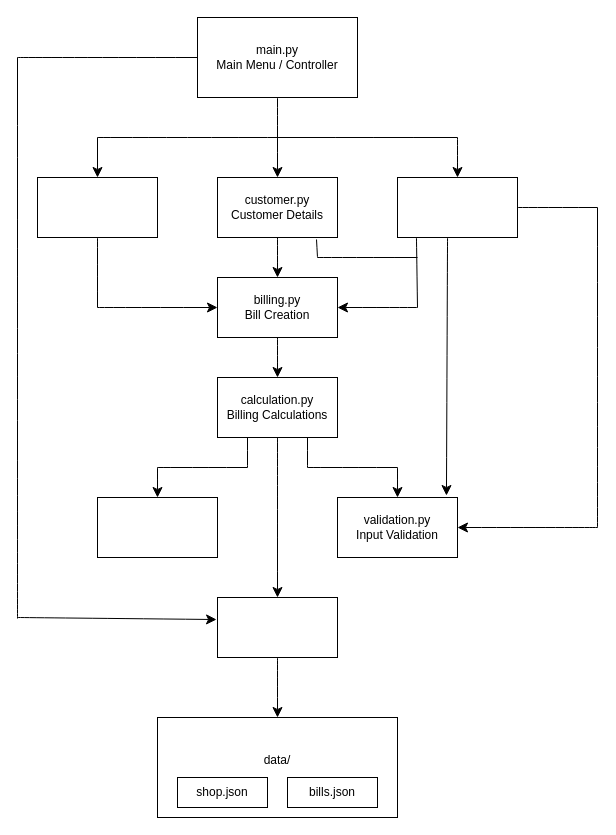
The diagram is 616 pixels wide and 835 high, and some of its shapes have lost their labels. The centre of each missing label's shape, as x and y in pixels:
"product.py Product Details" belongs at point (457, 207).
"receipt.py Receipt Generation" belongs at point (157, 527).
"shop.py Shop Management" belongs at point (97, 207).
"storage.py Data Storage" belongs at point (277, 627).
